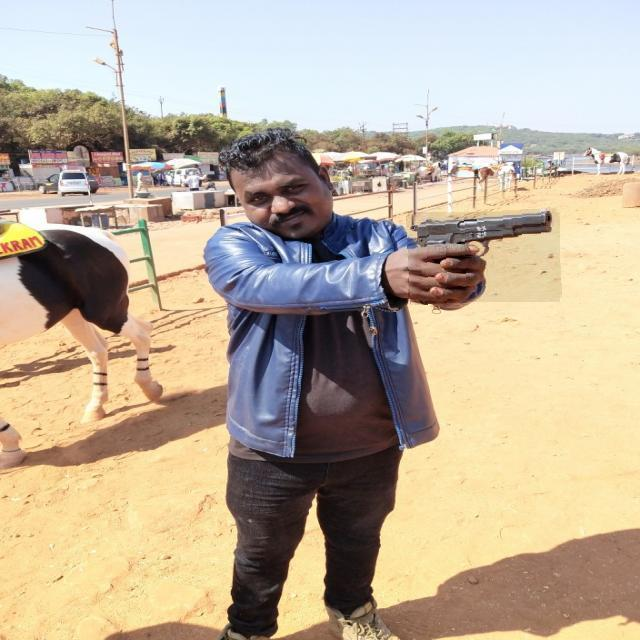handgun: (407, 210, 561, 304)
